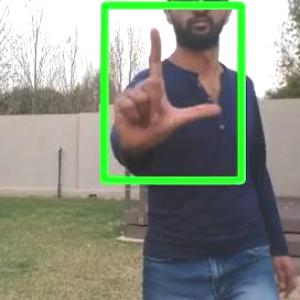land_hand: (111, 23, 222, 156)
